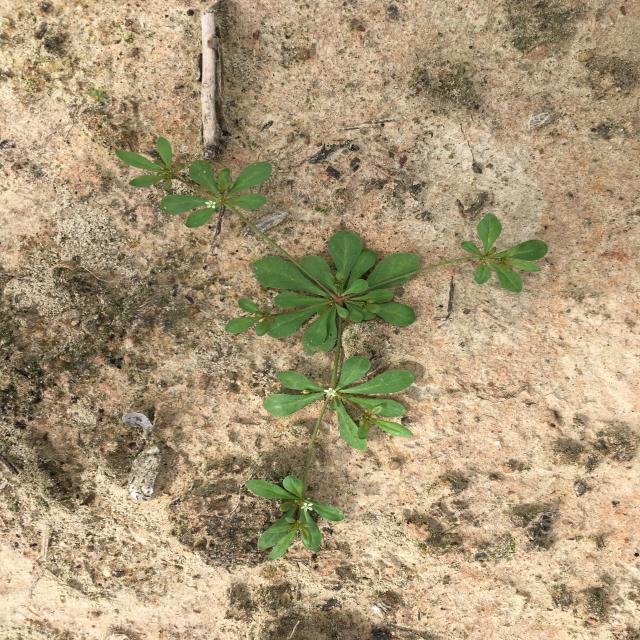Carpetweed: (114, 136, 548, 561)
